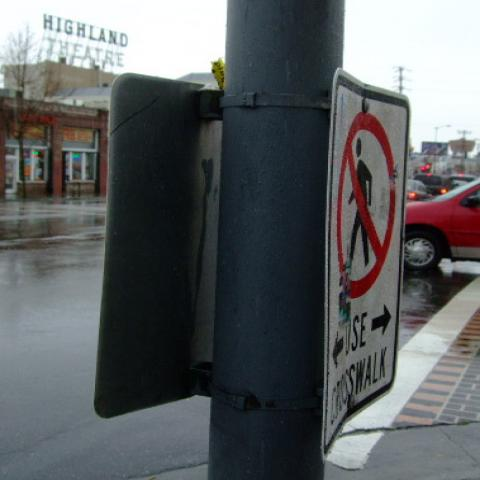car: (404, 176, 479, 274), (413, 173, 459, 195), (406, 179, 432, 203), (451, 174, 475, 188)
